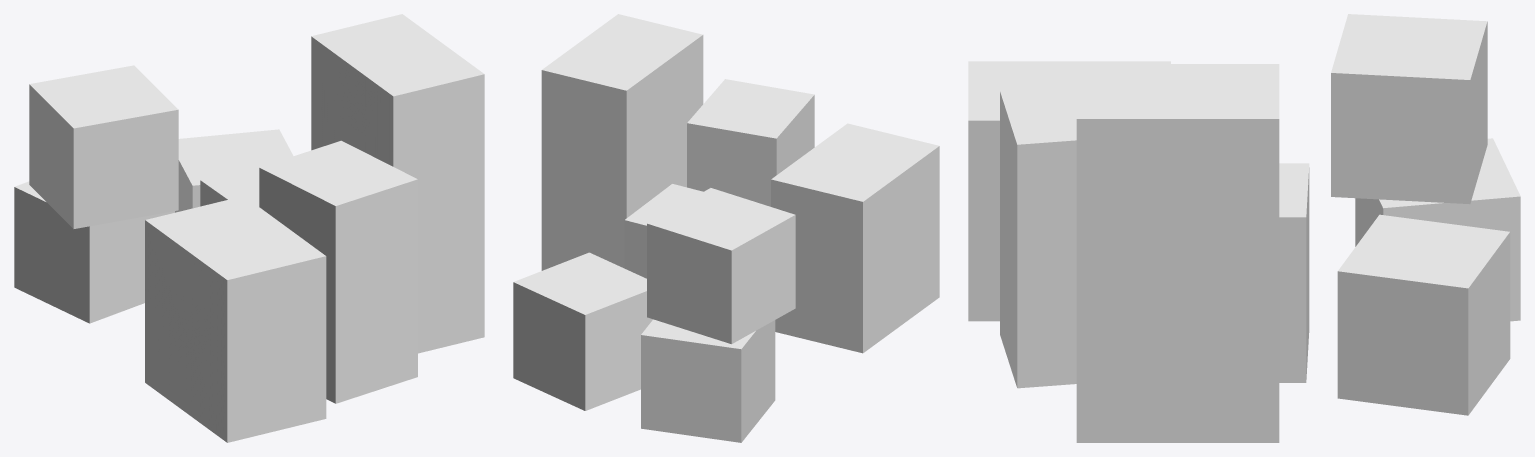
Rendered from Boxes.fbx.
3 views of the same model, side by side, from view 1: azimuth 30°, elevation 25°; view 2: azimuth 150°, elevation 25°; view 3: azimuth 270°, elevation 25° (orthographic). The views are drawn at different scales.
Parts seen in each view (by area): view 1: Cube.015; view 2: Cube.015; view 3: Cube.015.
Boxes of the visible parts, bbox=[...] form: Cube.015: bbox=[14, 14, 484, 442]; Cube.015: bbox=[513, 14, 939, 442]; Cube.015: bbox=[968, 14, 1520, 442].
Bounding box in the file's own units: 206 × 266 × 172.
